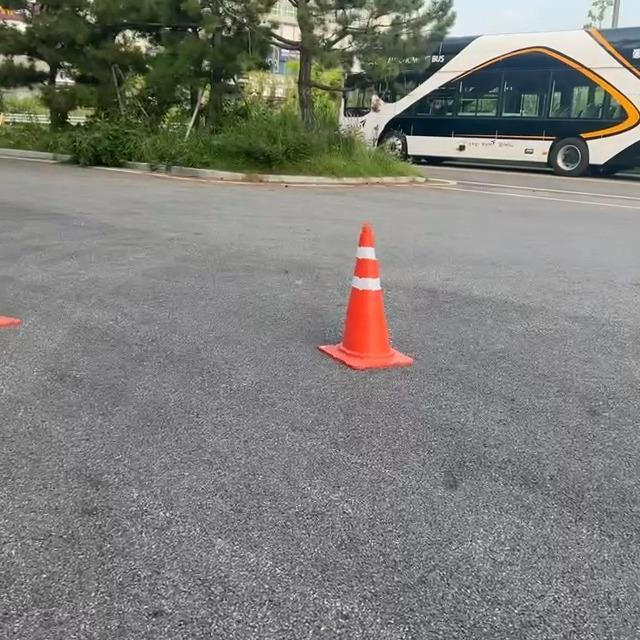fallen_object: (316, 190, 435, 420)
